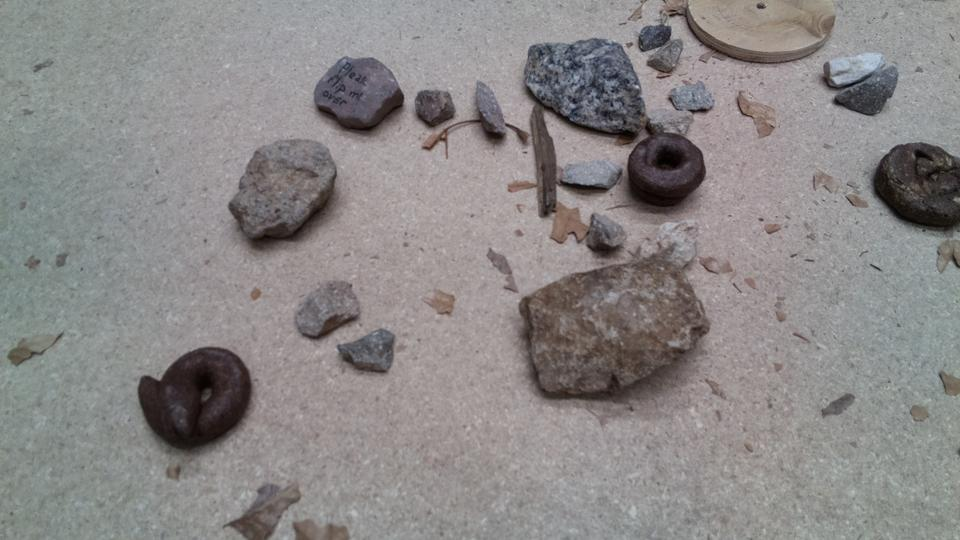poop: (134, 343, 255, 451), (874, 140, 960, 230), (626, 129, 707, 208)
